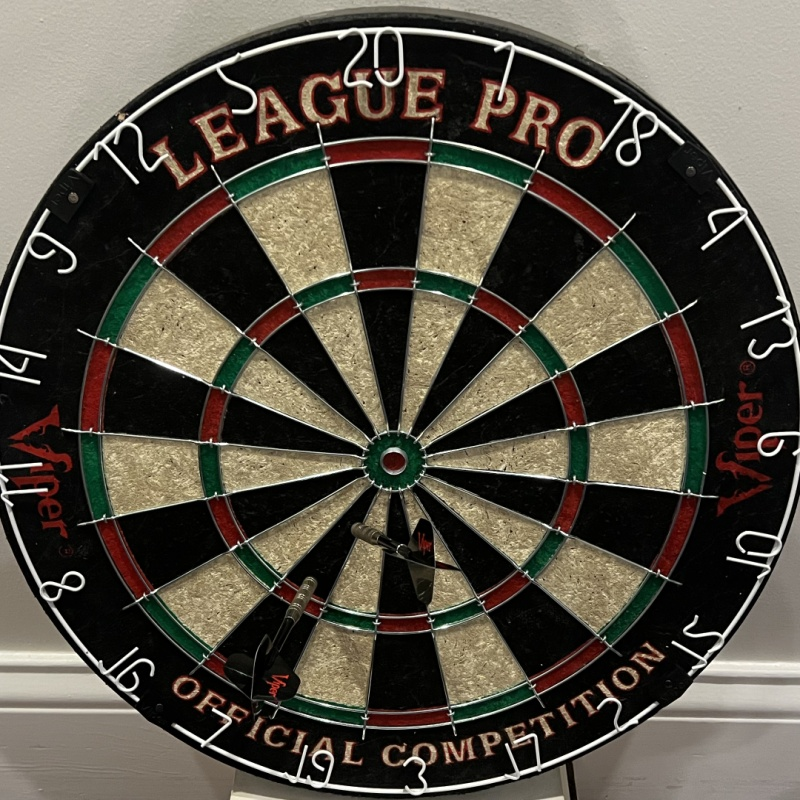dart: (298, 568, 325, 594), (345, 518, 363, 542)
eleven: (1, 460, 49, 505)
six: (755, 430, 800, 455)
three: (398, 756, 432, 797)
twenty: (339, 27, 405, 89)
